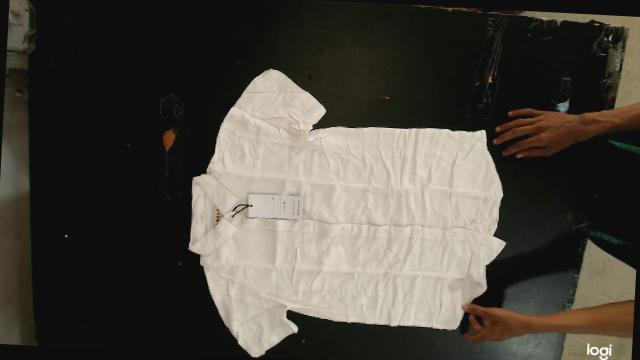new-garment: (189, 69, 505, 356)
